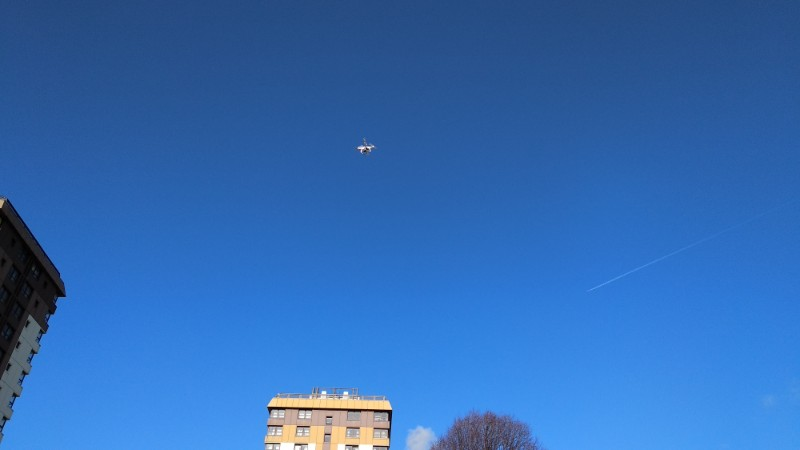drone: (354, 136, 376, 156)
